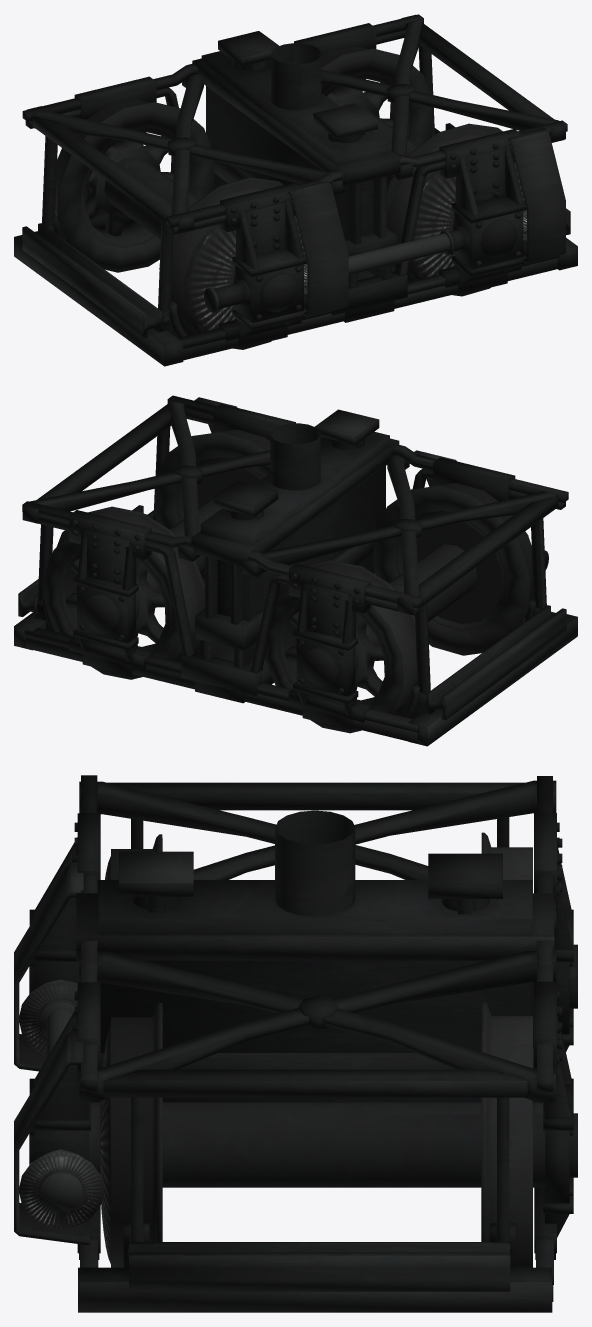
File: frontbog.obj
The picture shows the model from 3 angles, top to bottom: view 1: azimuth 30°, elevation 25°; view 2: azimuth 150°, elevation 25°; view 3: azimuth 270°, elevation 25°; orthographic projection. The views are drawn at different scales.
Visible parts, largest first — view 1: Cube.1326_Cube.1431, Circle.142_Circle.163, Circle.141_Circle.162, Cylinder.1400_Cylinder.1717; view 2: Cube.1326_Cube.1431, Circle.142_Circle.163, Circle.141_Circle.162; view 3: Cube.1326_Cube.1431, Circle.141_Circle.162, Cylinder.1400_Cylinder.1717, Circle.142_Circle.163.
Part boxes in pixels (box(x1,y1,x2,y2)): Cube.1326_Cube.1431: box(14, 14, 577, 366); Circle.142_Circle.163: box(55, 99, 307, 349); Circle.141_Circle.162: box(321, 46, 526, 296); Cylinder.1400_Cylinder.1717: box(304, 210, 526, 291); Cube.1326_Cube.1431: box(14, 395, 577, 746); Circle.142_Circle.163: box(265, 483, 533, 733); Circle.141_Circle.162: box(44, 429, 270, 679); Cube.1326_Cube.1431: box(14, 775, 577, 1312); Circle.141_Circle.162: box(89, 1001, 545, 1267); Cylinder.1400_Cylinder.1717: box(19, 979, 104, 1228); Circle.142_Circle.163: box(105, 832, 532, 892).
Bounding box in the file's own units: 1.52 × 0.7733 × 1.1.
